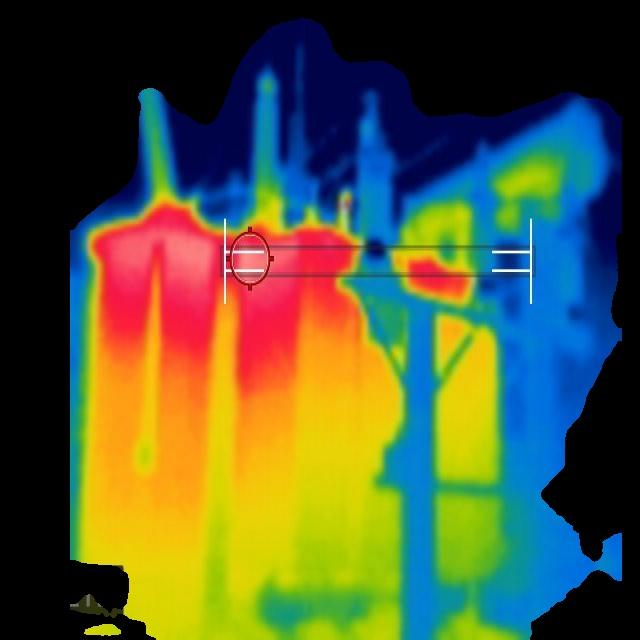Transformer Overload: (79, 198, 519, 639)
